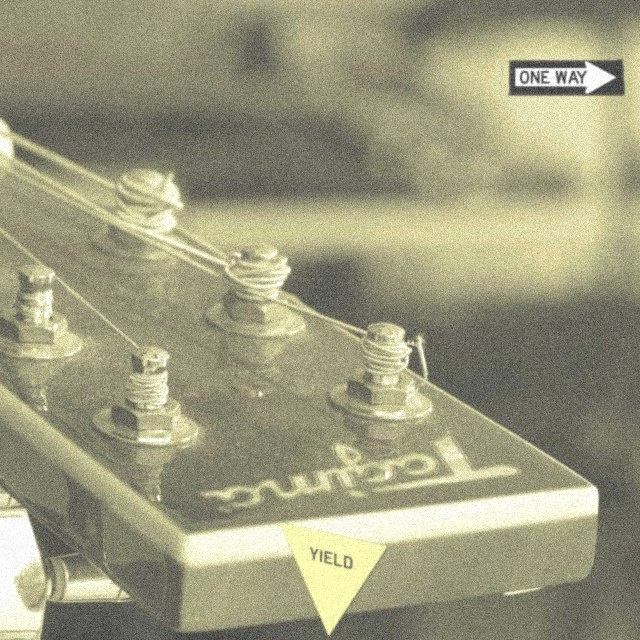ONE_WAY_ right: (508, 59, 625, 96)
YIELD: (278, 521, 389, 638)
